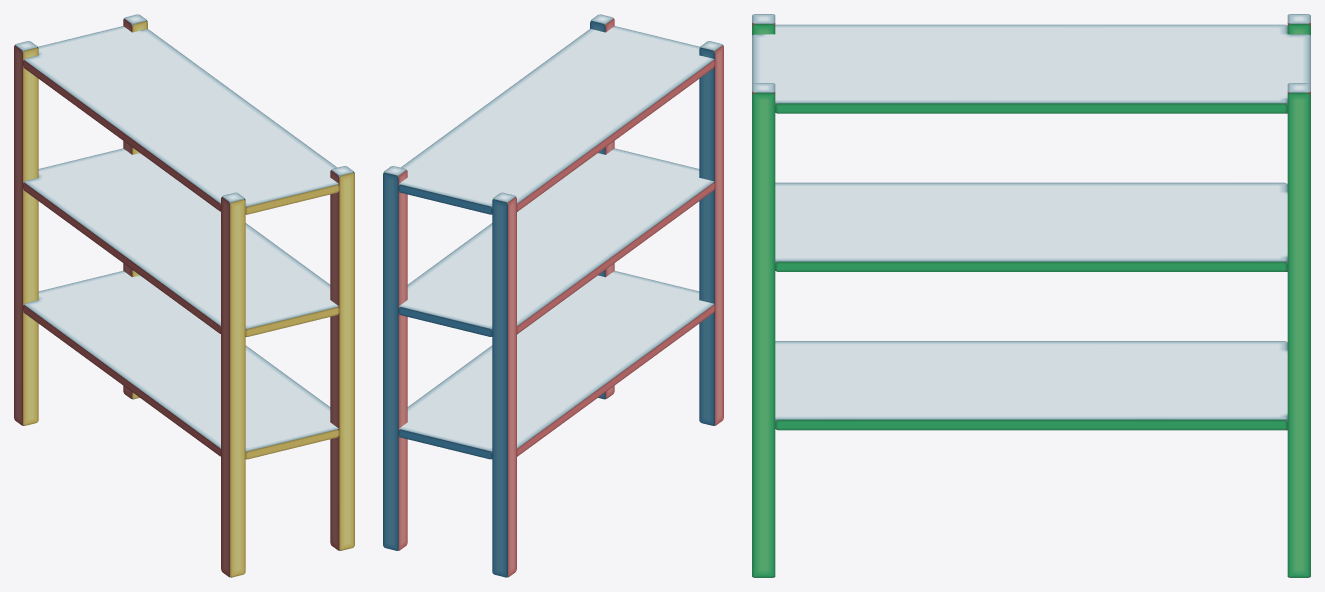
File: rack.obj
The picture shows the model from 3 angles, left to right: view 1: azimuth 30°, elevation 25°; view 2: azimuth 150°, elevation 25°; view 3: azimuth 270°, elevation 25°; orthographic projection. The views are drawn at different scales.
Parts seen in each view (by area): view 1: shelf, leg; view 2: shelf, leg; view 3: shelf, leg.
Part boxes in pixels (<box>): shelf: <box>23,26,339,459</box>; leg: <box>14,14,354,577</box>; shelf: <box>398,26,714,459</box>; leg: <box>383,14,723,577</box>; shelf: <box>752,24,1310,430</box>; leg: <box>752,14,1310,577</box>.
Size of the model in its own units: 1 by 2.88 by 3.
1 material, 1 textured.
